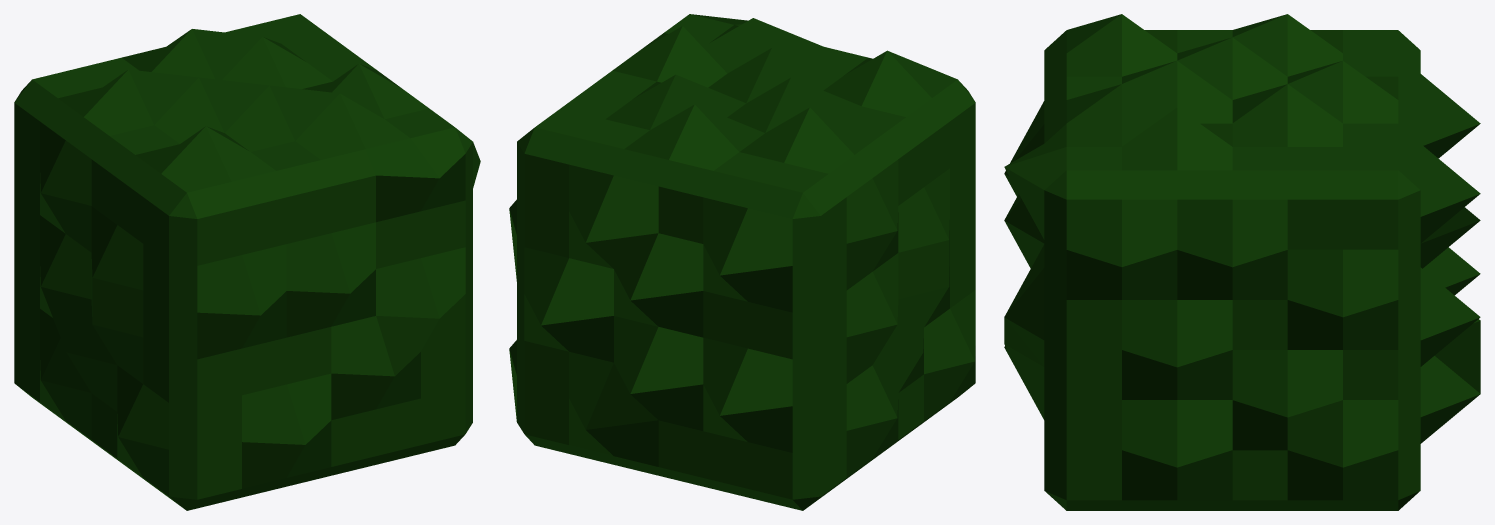
Rendered from Bush_4_Snow.glb.
3 views of the same model, side by side, from view 1: azimuth 30°, elevation 25°; view 2: azimuth 150°, elevation 25°; view 3: azimuth 270°, elevation 25° (orthographic). The views are drawn at different scales.
Parts seen in each view (by area): view 1: Bush_4_Snow.001; view 2: Bush_4_Snow.001; view 3: Bush_4_Snow.001.
Boxes of the visible parts, box(x1,y1,x2,y2) form: Bush_4_Snow.001: box(14, 14, 480, 510); Bush_4_Snow.001: box(509, 14, 975, 510); Bush_4_Snow.001: box(1004, 14, 1480, 510).
Size of the model in its own units: 0.8841 by 0.8273 by 0.9398.
